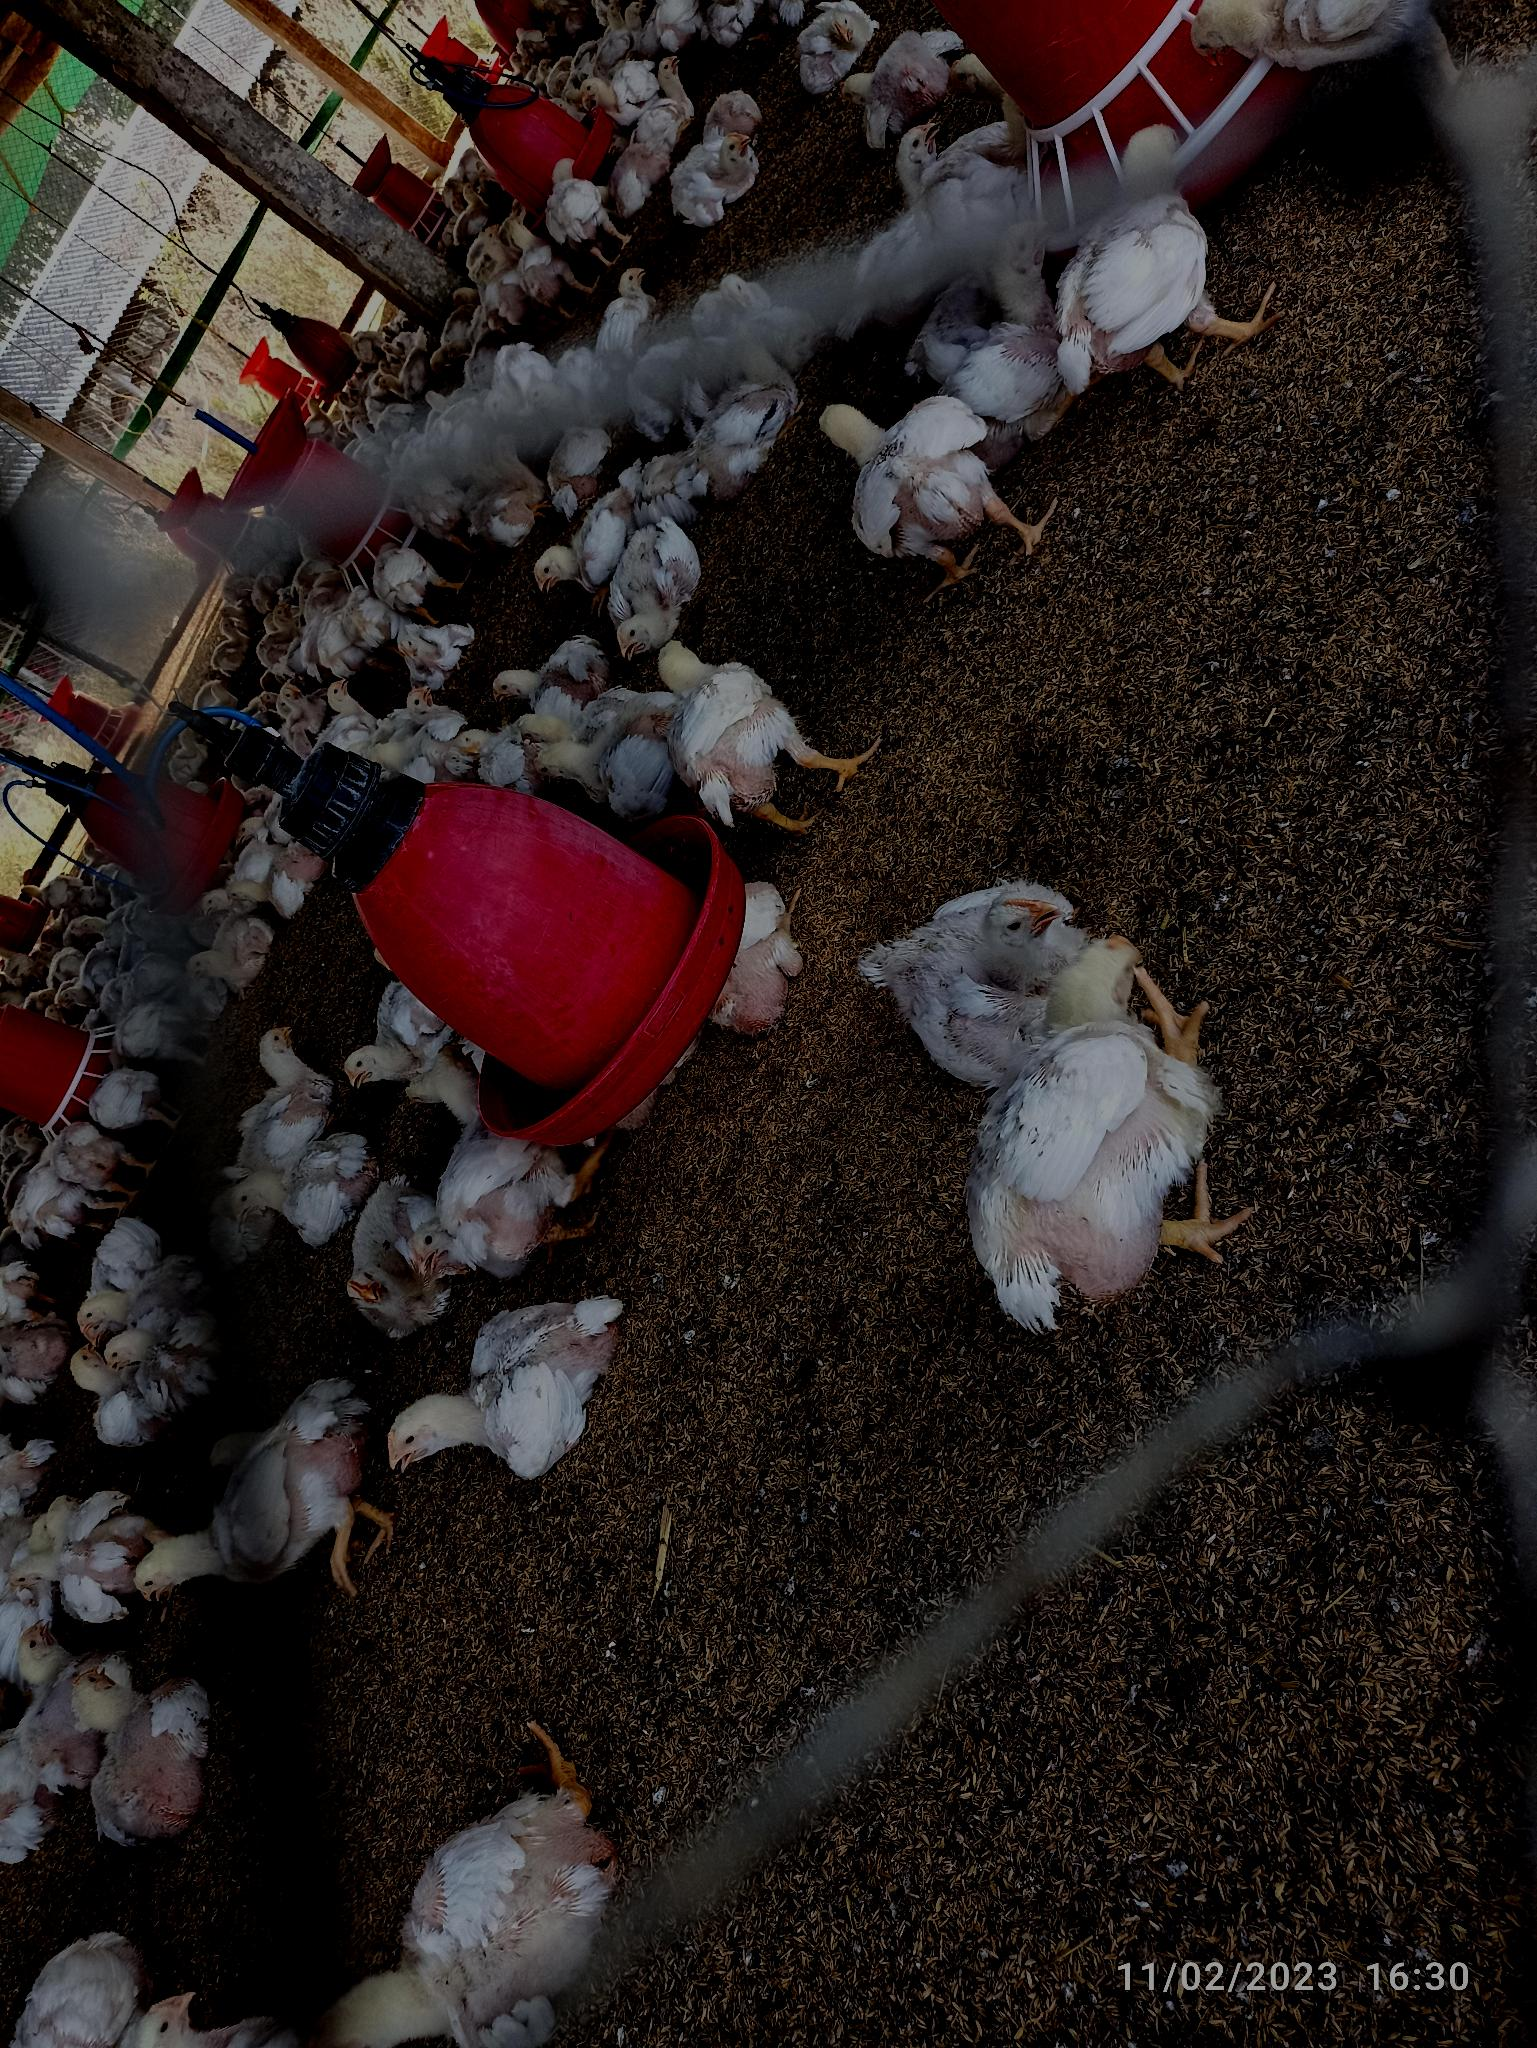Pollos: (864, 871, 1133, 1034), (384, 1323, 597, 1483), (806, 389, 1003, 536), (634, 647, 819, 804), (73, 1657, 220, 1832), (66, 1256, 203, 1402), (244, 1018, 329, 1178), (534, 479, 654, 589)
